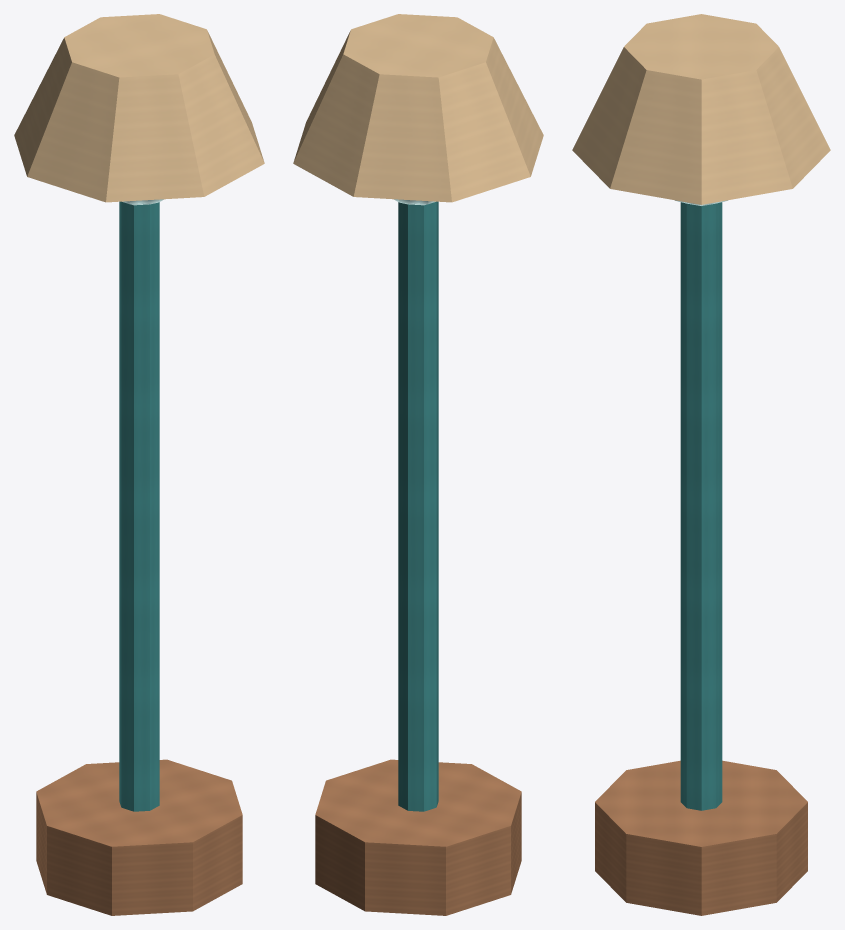
The model's file is atlas100-desertdeco-util01.glb.
The picture shows the model from 3 angles, left to right: view 1: azimuth 30°, elevation 25°; view 2: azimuth 150°, elevation 25°; view 3: azimuth 270°, elevation 25°; orthographic projection.
Parts seen in each view (by area): view 1: atlas100-desertdeco-util01:part-002, atlas100-desertdeco-util01:part-000, atlas100-desertdeco-util01:part-001; view 2: atlas100-desertdeco-util01:part-002, atlas100-desertdeco-util01:part-000, atlas100-desertdeco-util01:part-001; view 3: atlas100-desertdeco-util01:part-002, atlas100-desertdeco-util01:part-000, atlas100-desertdeco-util01:part-001.
Boxes of the visible parts, x1,y1,x2,y2 form: atlas100-desertdeco-util01:part-002: (14, 14, 264, 202); atlas100-desertdeco-util01:part-000: (36, 759, 242, 915); atlas100-desertdeco-util01:part-001: (119, 201, 159, 811); atlas100-desertdeco-util01:part-002: (293, 14, 543, 202); atlas100-desertdeco-util01:part-000: (315, 759, 521, 915); atlas100-desertdeco-util01:part-001: (398, 201, 438, 811); atlas100-desertdeco-util01:part-002: (572, 14, 830, 204); atlas100-desertdeco-util01:part-000: (595, 760, 807, 915); atlas100-desertdeco-util01:part-001: (680, 202, 722, 810).
Bounding box in the file's own units: 0.6956 × 2.44 × 0.6956.
4 materials, 4 textured.
